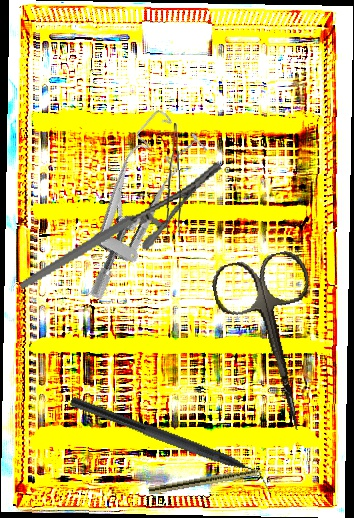Chopper: (63, 395, 280, 496)
Handpiece: (148, 463, 281, 497)
Iris Scissors: (208, 247, 342, 442)
Needle Holder: (3, 159, 238, 290)
Speculum: (36, 102, 225, 305)
Tissue Forceps: (161, 122, 183, 237)
